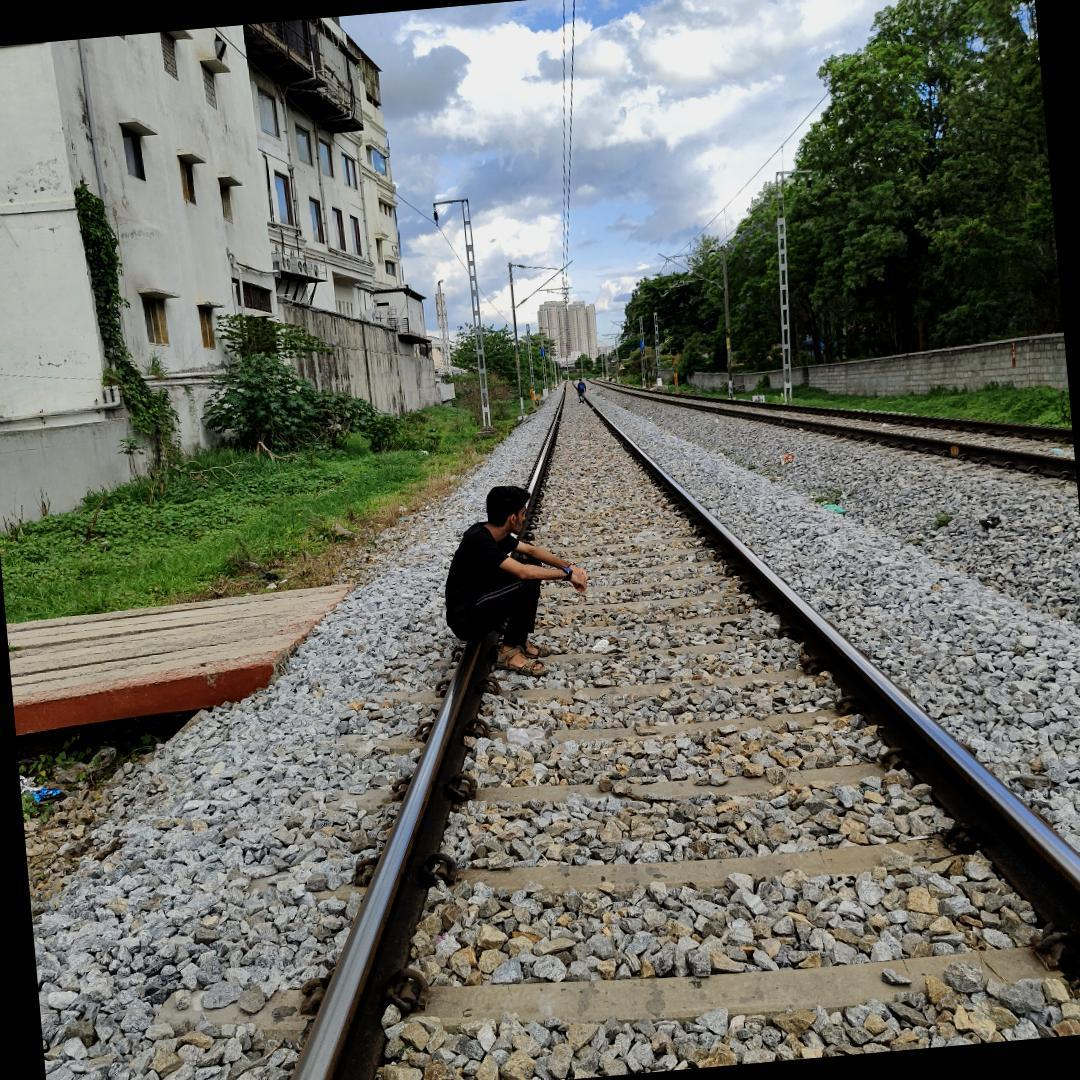sitting: (432, 472, 574, 688)
